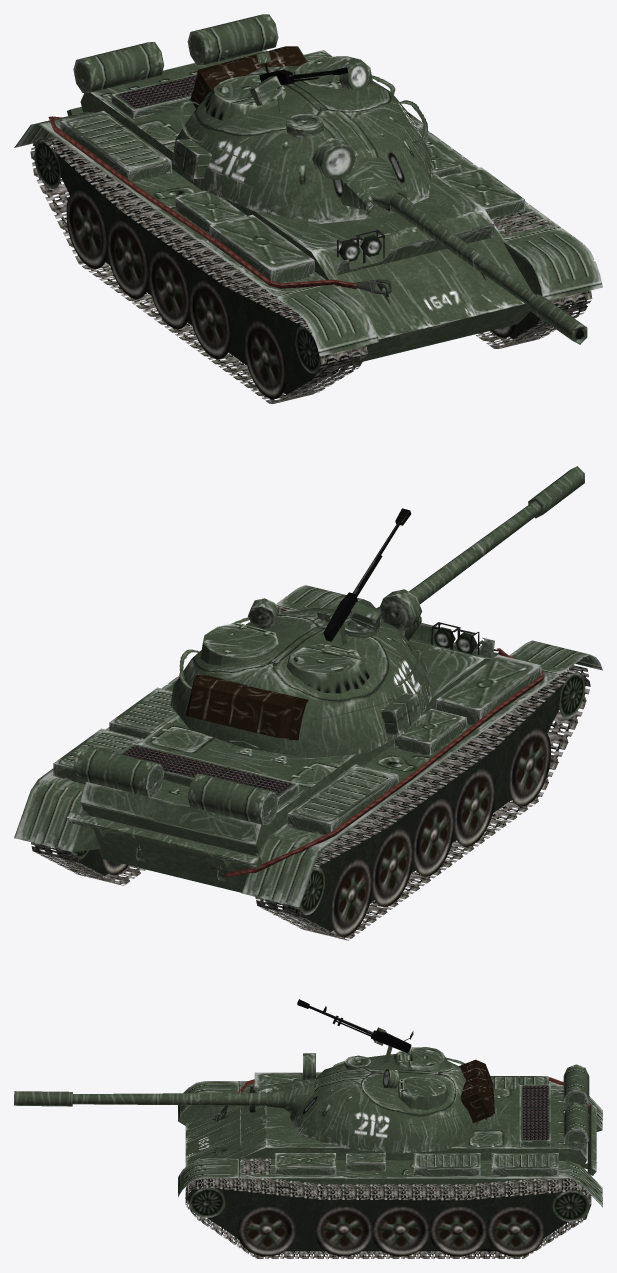
3 views of the same model, one above another, from view 1: azimuth 30°, elevation 25°; view 2: azimuth 150°, elevation 25°; view 3: azimuth 270°, elevation 25° (orthographic). The views are drawn at different scales.
Parts seen in each view (by area): view 1: Box01, tower, wheels, cann, cannon, Object009, Object010, Object013, Object012, Object011, Object014, Object008; view 2: Box01, tower, wheels, cann, Object009, Object010, Object012, Object013, Object011, cannon, Object008, Object014; view 3: Box01, tower, wheels, cann, Object002, Object003, Object005, Object004, Object006, cannon, Object007, Object001.
Boxes of the visible parts, bbox=[...] form: Box01: bbox=[14, 14, 602, 363]; tower: bbox=[172, 46, 433, 223]; wheels: bbox=[30, 136, 592, 403]; cann: bbox=[390, 193, 587, 344]; cannon: bbox=[312, 137, 406, 211]; Object009: bbox=[244, 320, 286, 399]; Object010: bbox=[189, 280, 231, 358]; Object013: bbox=[66, 190, 107, 268]; Object012: bbox=[107, 220, 148, 298]; Object011: bbox=[149, 250, 189, 329]; Object014: bbox=[34, 139, 60, 188]; Object008: bbox=[295, 325, 320, 373]; Box01: bbox=[14, 585, 602, 907]; tower: bbox=[170, 508, 431, 758]; wheels: bbox=[31, 665, 590, 940]; cann: bbox=[408, 466, 584, 604]; Object009: bbox=[509, 727, 550, 806]; Object010: bbox=[454, 768, 495, 846]; Object012: bbox=[372, 828, 413, 906]; Object013: bbox=[331, 858, 372, 936]; Object011: bbox=[413, 797, 454, 876]; cannon: bbox=[374, 589, 422, 640]; Object008: bbox=[559, 671, 584, 718]; Object014: bbox=[300, 866, 324, 915]; Box01: bbox=[178, 1064, 602, 1207]; tower: bbox=[290, 999, 494, 1153]; wheels: bbox=[185, 1177, 591, 1258]; cann: bbox=[14, 1091, 267, 1106]; Object002: bbox=[237, 1206, 295, 1256]; Object003: bbox=[314, 1206, 372, 1256]; Object005: bbox=[429, 1206, 486, 1256]; Object004: bbox=[372, 1206, 429, 1256]; Object006: bbox=[487, 1206, 543, 1256]; cannon: bbox=[267, 1053, 315, 1116]; Object007: bbox=[552, 1190, 589, 1221]; Object001: bbox=[190, 1187, 225, 1217].
Bounding box in the file's own units: 66.81 × 64.59 × 171.
Materials: 1 (1 with a texture image).
